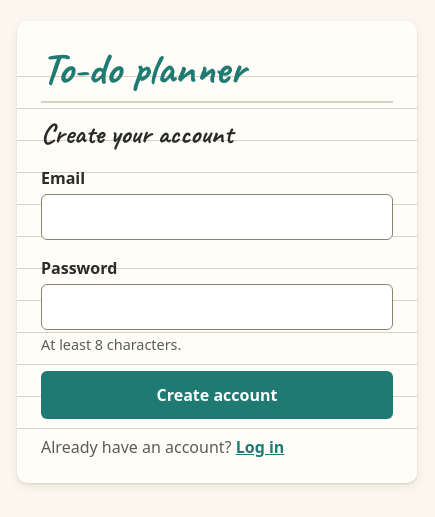
Test case: US1 Register › AC1.2 shows "Email already in use" on the email field
The image size is (435, 517).
Type "taken@example.com" into the field labelled "Email" at (217, 217), box [41,194,393,240]
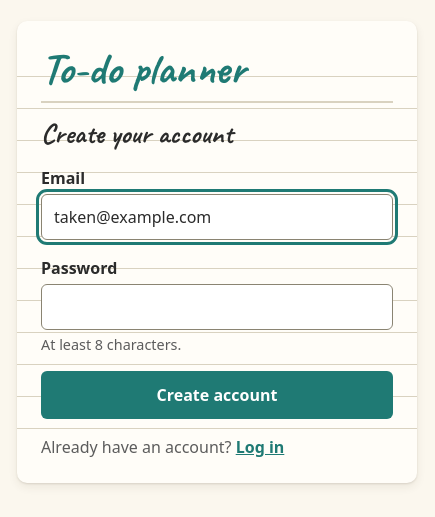
Type "correct horse" into the password field labelled "Password" at (217, 307), box [41,284,393,330]
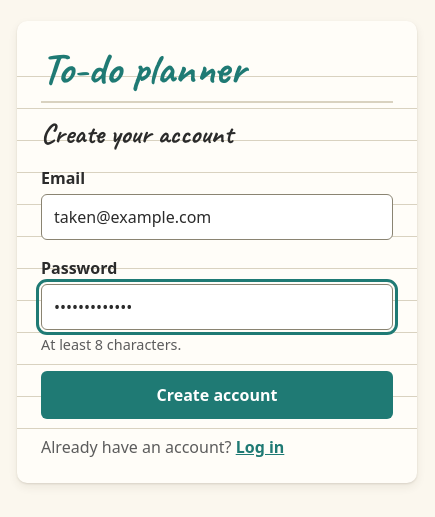
Click the button "Create account" at (217, 395), box [41,371,393,419]
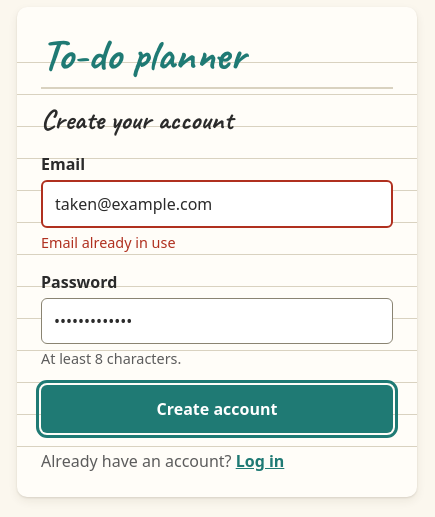
Expected: the text "Email already in use" is shown, [41,233,176,252]
